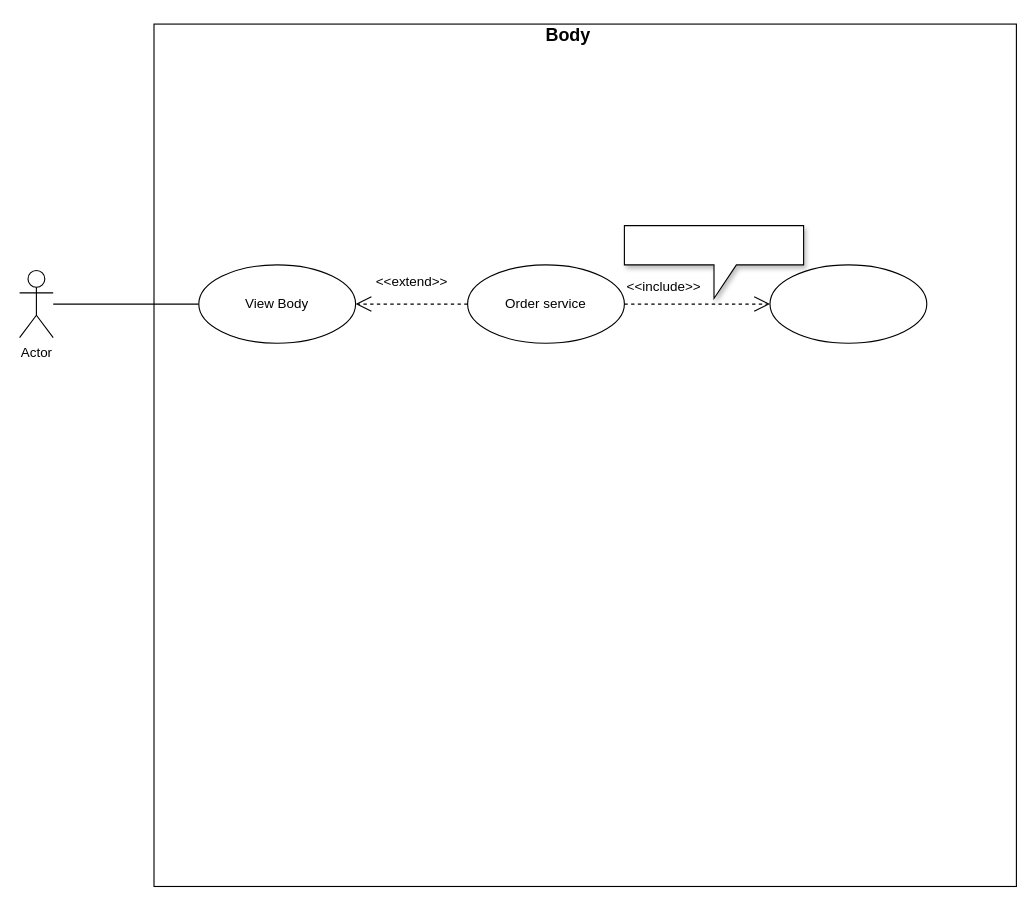
Some shapes in this 1036 by 906 pixel diagram are drawn without their labels. Here are the shapes that lost their labels. From the top down, the centre of each, then its label:
At point 714,263: "Condition: Role Table".
At point 848,303: "Login".
